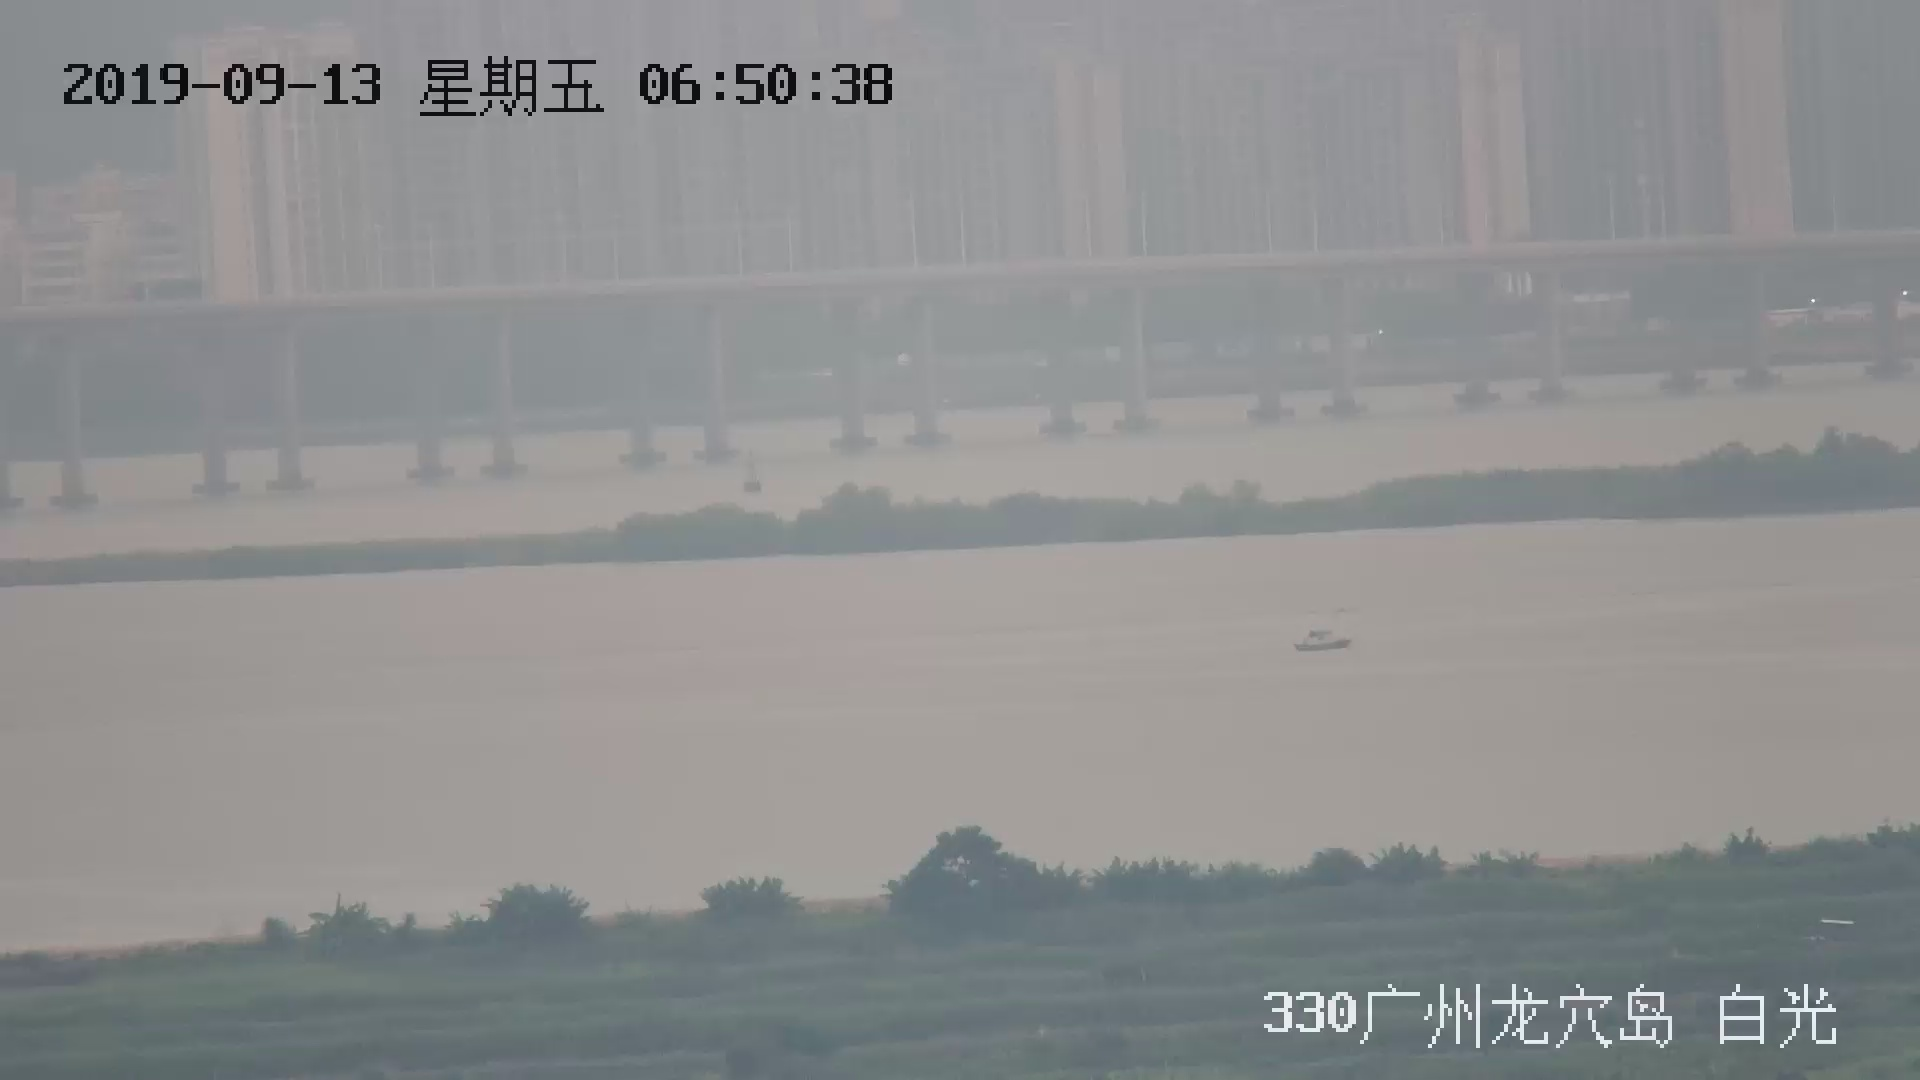ship: (1294, 629, 1350, 654)
